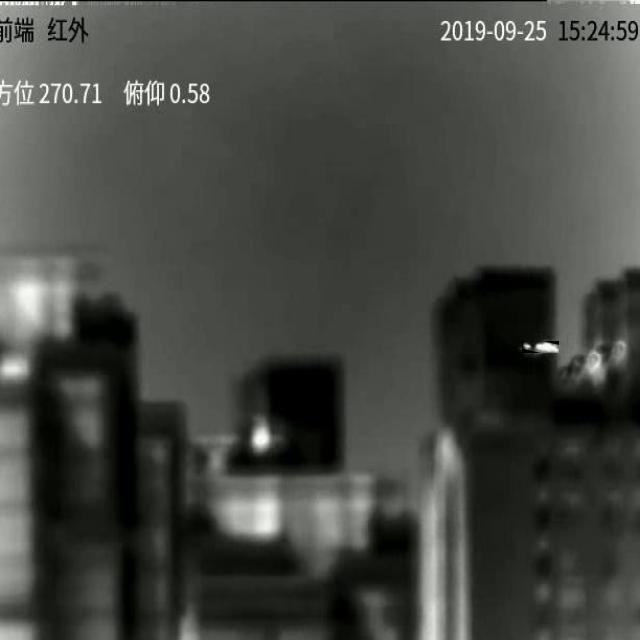drone: (522, 343, 559, 353)
